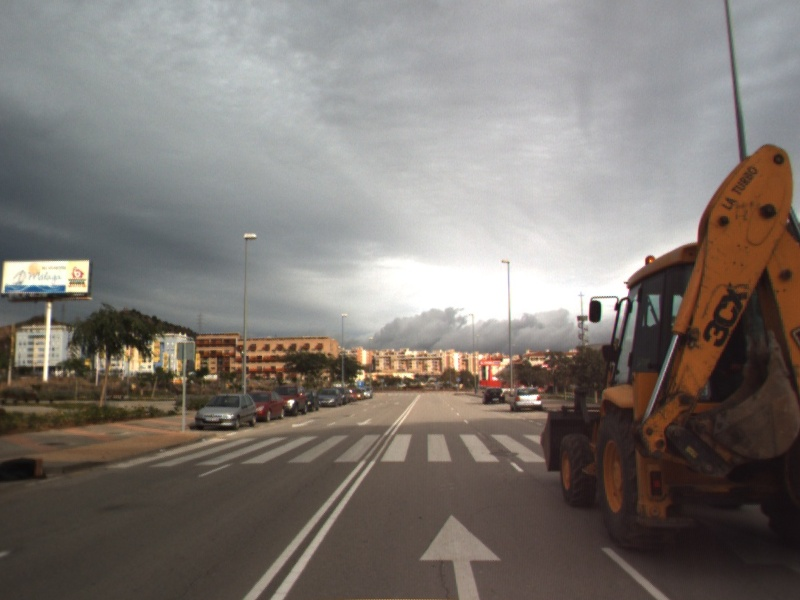STRAIGHT: (415, 509, 504, 600)
